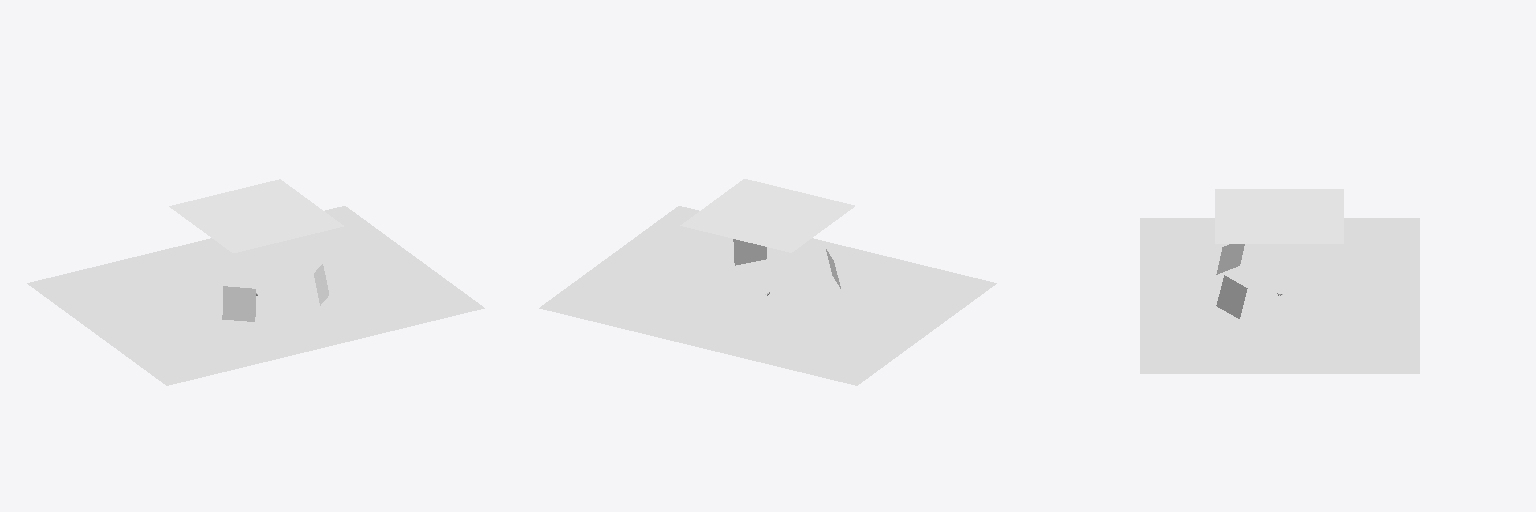
The model's file is Kitty.obj.
3 views of the same model, side by side, from view 1: azimuth 30°, elevation 25°; view 2: azimuth 150°, elevation 25°; view 3: azimuth 270°, elevation 25° (orthographic).
Parts seen in each view (by area): view 1: Plane, Softbox, Front_Of_Softbox; view 2: Plane, Softbox, Front_Of_Softbox_1; view 3: Plane, Softbox, Front_Of_Softbox_1, Front_Of_Softbox.
Part boxes in pixels (bbox=[...]): Plane: bbox=[27, 206, 484, 385]; Softbox: bbox=[169, 179, 343, 252]; Front_Of_Softbox: bbox=[222, 286, 255, 321]; Plane: bbox=[539, 206, 996, 385]; Softbox: bbox=[680, 179, 854, 252]; Front_Of_Softbox_1: bbox=[733, 239, 766, 265]; Plane: bbox=[1140, 218, 1419, 373]; Softbox: bbox=[1215, 189, 1343, 243]; Front_Of_Softbox_1: bbox=[1216, 275, 1247, 318]; Front_Of_Softbox: bbox=[1216, 244, 1244, 274].
Size of the model in its own units: 4277 by 1022 by 3262.